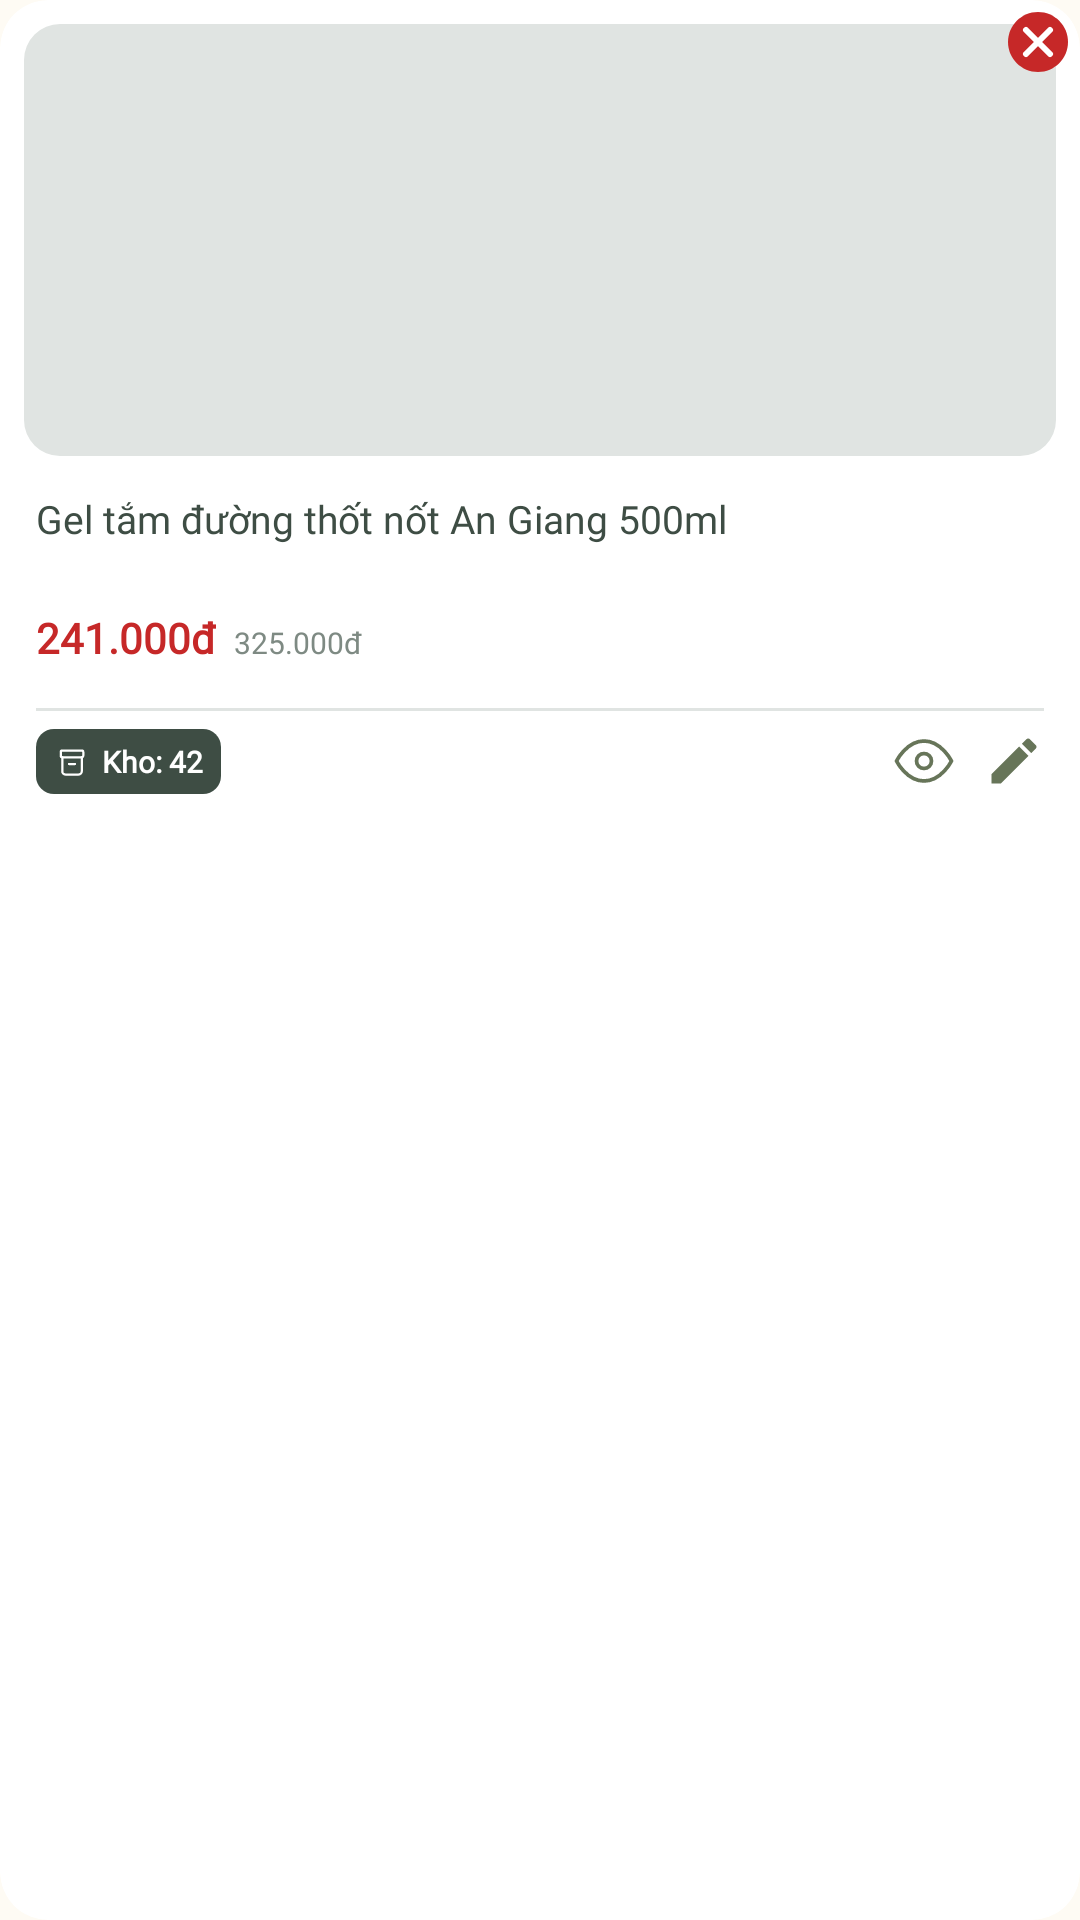

Icon click points for this 1080×1920 phone screenshot, format (x,y):
Chỉnh sửa: (1014,761)
Xem chi tiết: (924,761)
Xóa sản phẩm: (1035,45)
